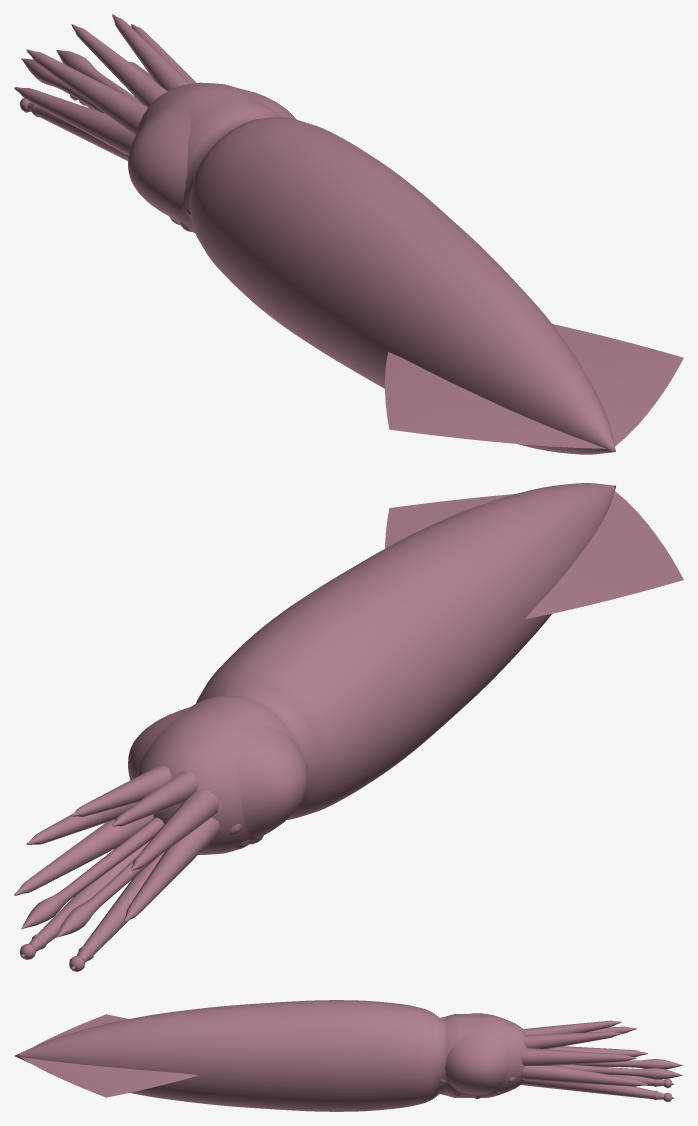
File: firefly_squid.glb
3 views of the same model, one above another, from view 1: azimuth 30°, elevation 25°; view 2: azimuth 150°, elevation 25°; view 3: azimuth 270°, elevation 25° (orthographic). The views are drawn at different scales.
Parts seen in each view (by area): view 1: firefly_squid; view 2: firefly_squid; view 3: firefly_squid.
Part boxes in pixels (x1,y1,x2,y2): firefly_squid: [14, 14, 683, 454]; firefly_squid: [14, 483, 683, 971]; firefly_squid: [14, 1000, 683, 1111].
Bounding box in the file's own units: 0.0208 × 0.0119 × 0.0706.
